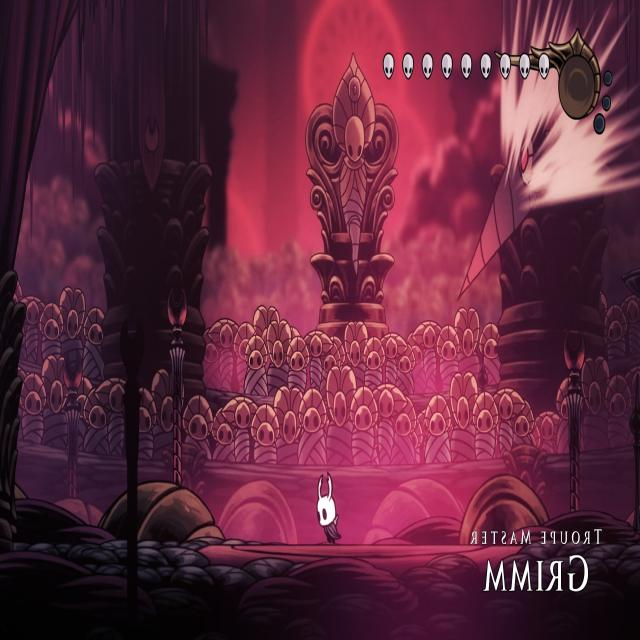Dive Dash: (453, 104, 569, 306)
Player: (315, 466, 344, 546)
